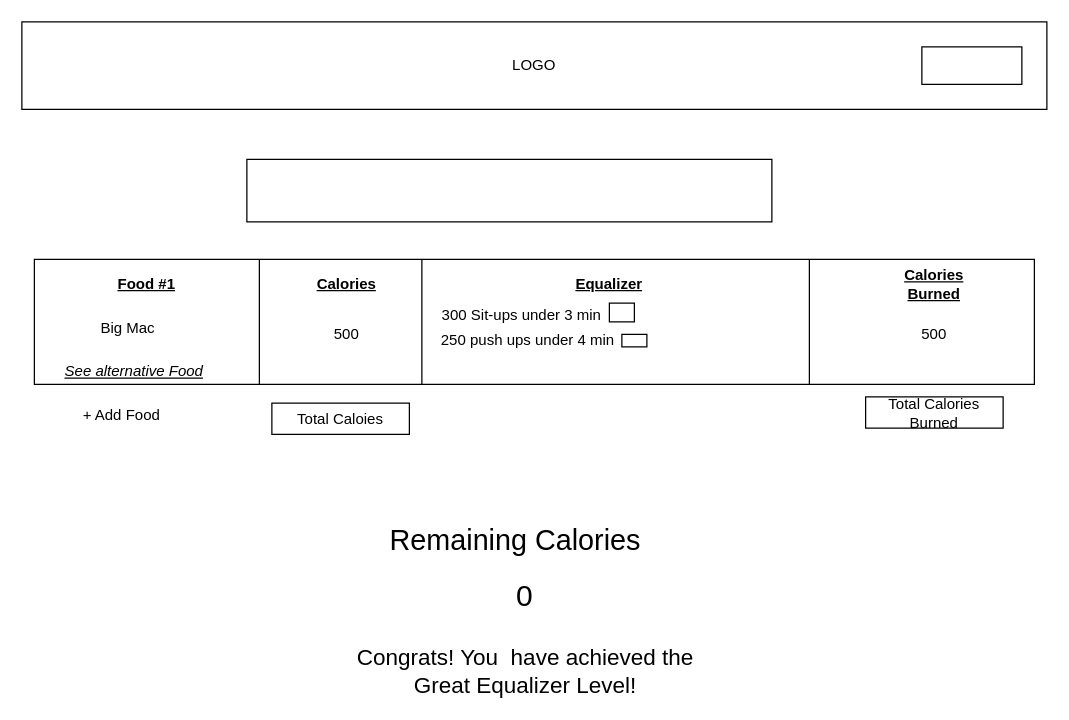
Image size: 1069x720. Some labels were removed from this diagram. Here are the shapes that lost their labels. From the top down, the box of each, then its label:
(921, 46, 1022, 84): Menu
(246, 158, 772, 222): Search Food Database
